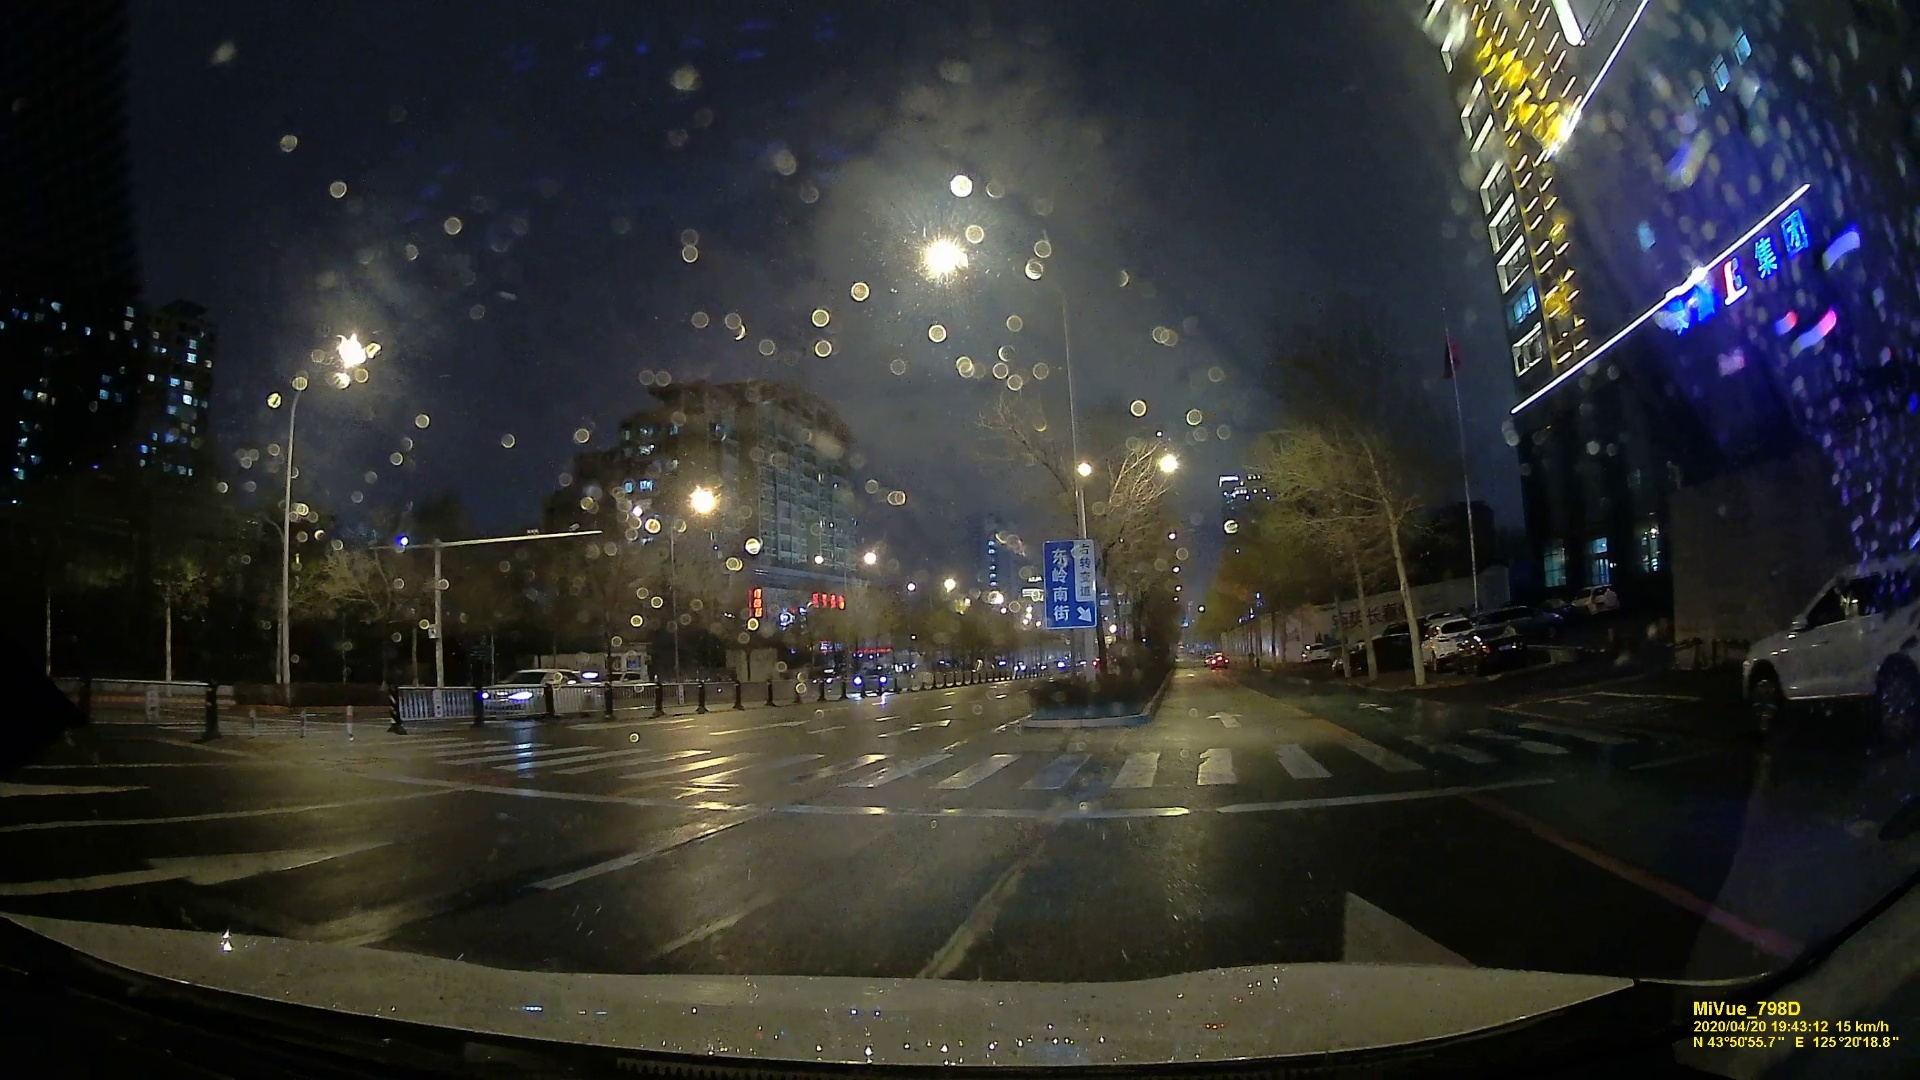traffic_sign: (1038, 542, 1100, 629)
vehicle: (1729, 560, 1920, 727), (472, 665, 608, 725), (1211, 651, 1232, 669)
